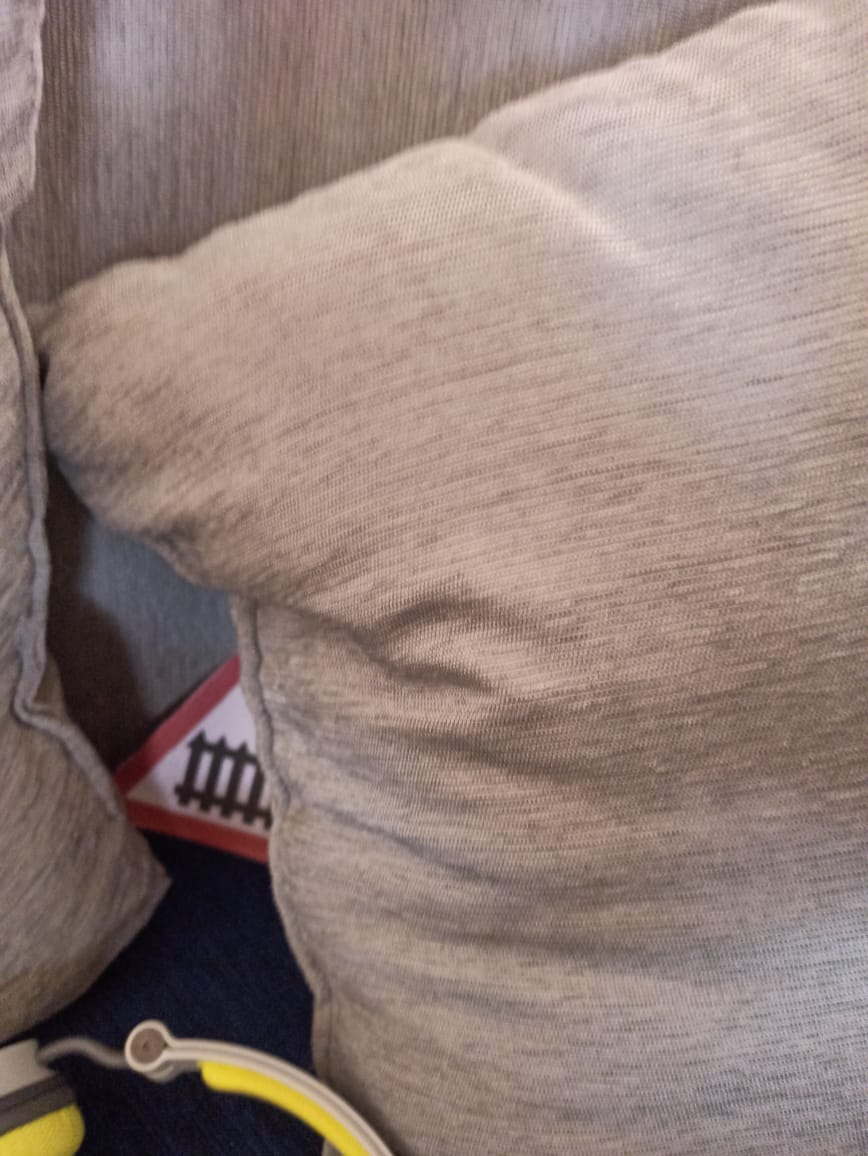GUARDED LEVEL CROSSING: (88, 631, 316, 892)
